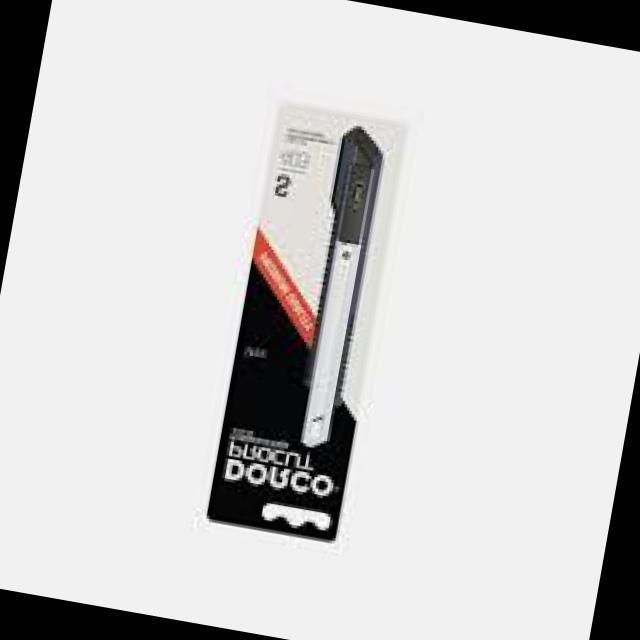cutter: (285, 124, 400, 460)
